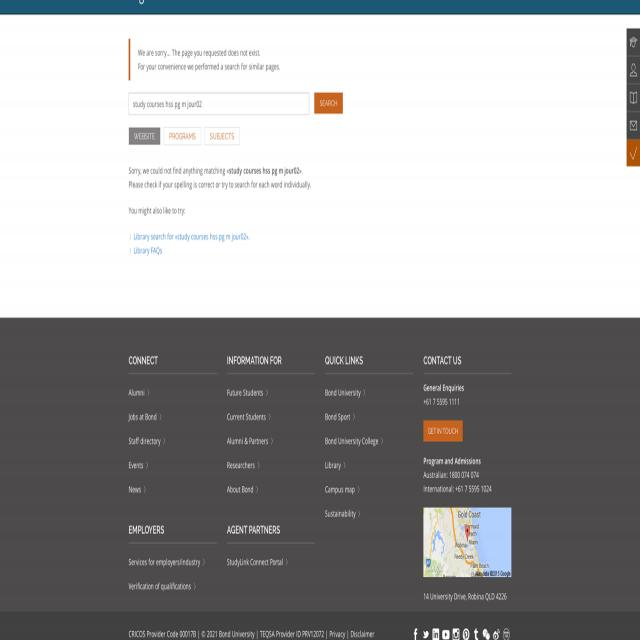button: (423, 508, 512, 577), (423, 420, 463, 442), (164, 127, 201, 145), (204, 127, 240, 145), (314, 92, 343, 114), (128, 127, 160, 145), (626, 28, 640, 57), (626, 83, 640, 111), (626, 110, 640, 138), (626, 56, 640, 84), (626, 140, 640, 167), (441, 624, 451, 640), (431, 625, 441, 640), (481, 627, 492, 640), (470, 626, 480, 640), (421, 625, 430, 640), (502, 627, 512, 640), (452, 626, 461, 640), (412, 625, 420, 640), (461, 626, 469, 640), (493, 627, 501, 640)
field: (129, 92, 309, 115)
